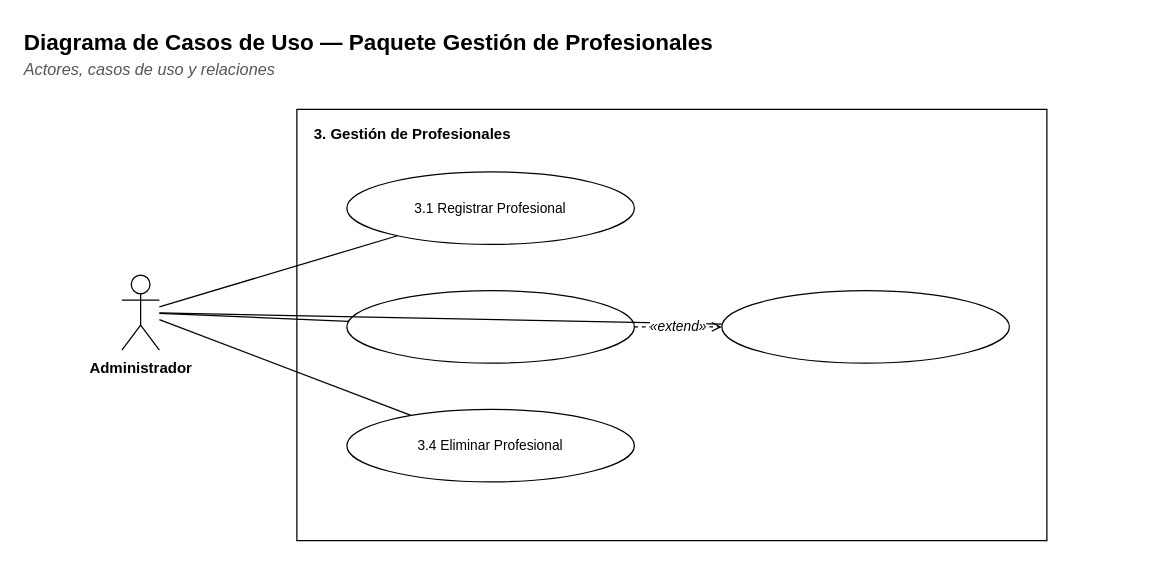
This 1168x563 diagram has some shape labels left out. Each missing label, with the centre of its shape:
"3.2 Actualizar Profesional" goes at (x=865, y=326).
"3.3 Desactivar Profesional" goes at (x=490, y=326).
